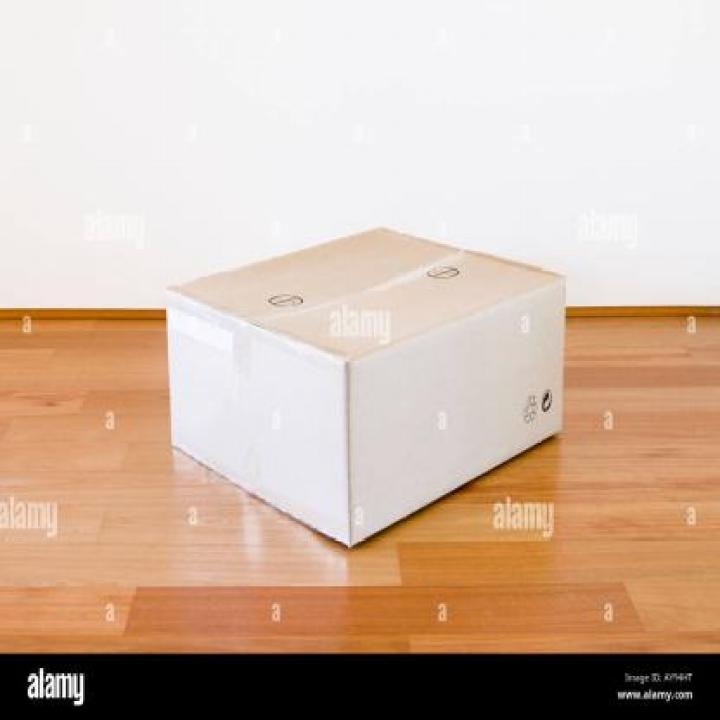box: (152, 207, 602, 568)
